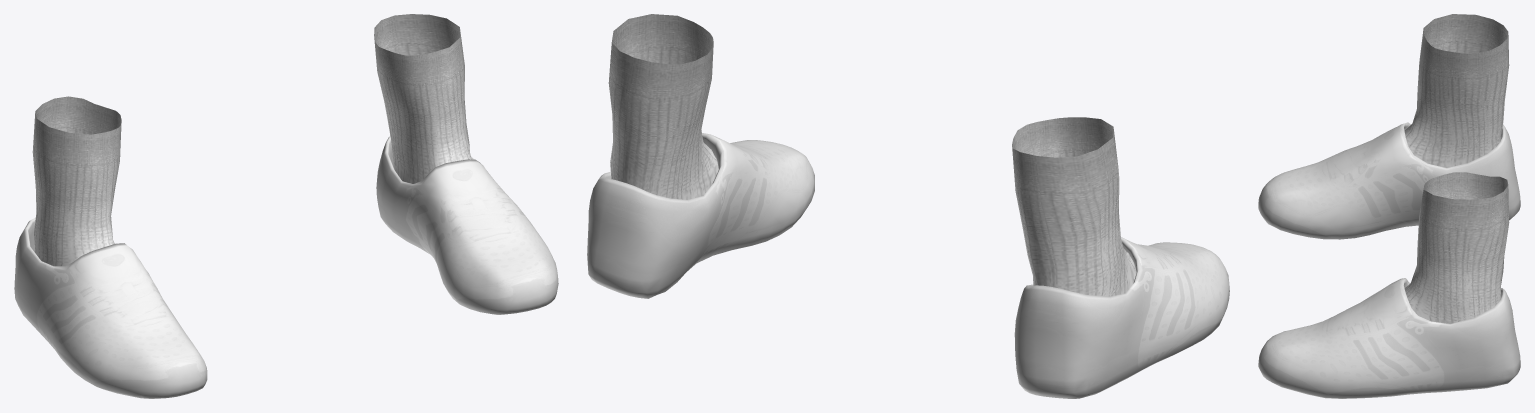
File: sneaker.glb
The picture shows the model from 3 angles, left to right: view 1: azimuth 30°, elevation 25°; view 2: azimuth 150°, elevation 25°; view 3: azimuth 270°, elevation 25°; orthographic projection. The views are drawn at different scales.
Visible parts, largest first — view 1: sneaker; view 2: sneaker; view 3: sneaker.
Part boxes in pixels (left/top/right/bottom): sneaker: left=14, top=14, right=558, bottom=398; sneaker: left=587, top=14, right=1229, bottom=398; sneaker: left=1258, top=14, right=1520, bottom=398.
Size of the model in its own units: 0.5208 by 0.2284 by 0.2749.
Materials: 2 (2 with a texture image).
